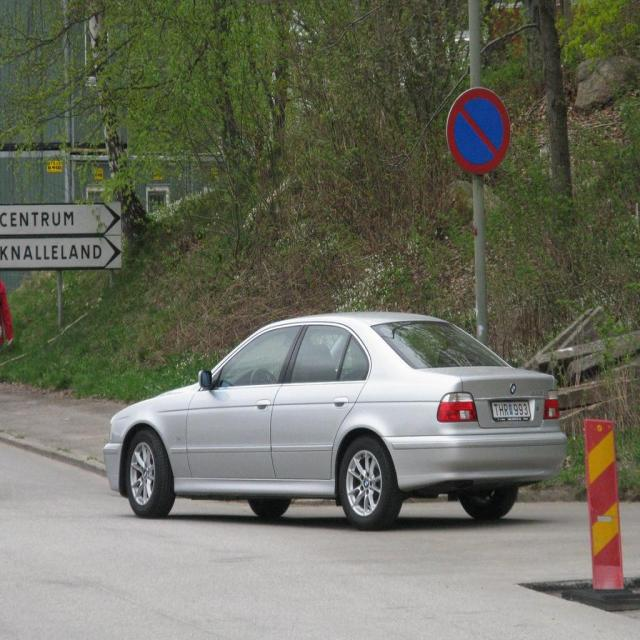car: (105, 306, 575, 532)
